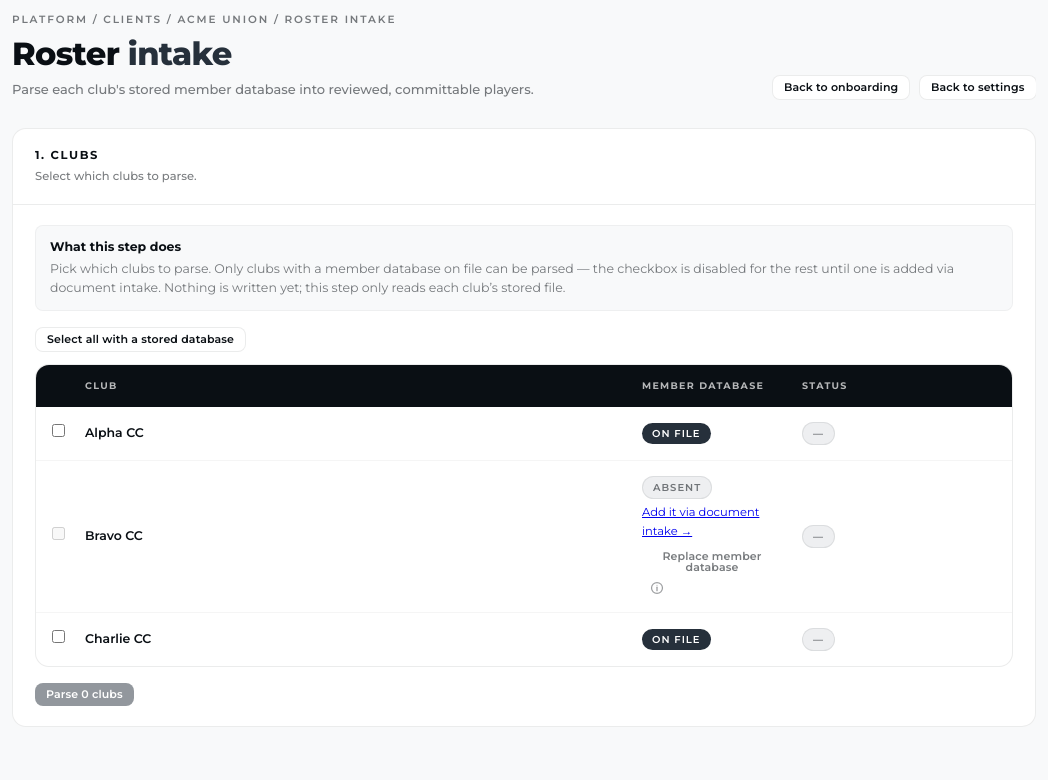
Scenario: RosterIntakeWizard › masks IDs by default with a per-row reveal
Expected: the heading "Roster intake" is shown, [12,34,232,73]
Click the checkbox named "select alpha cc" at (58, 430), box [52,424,65,437]
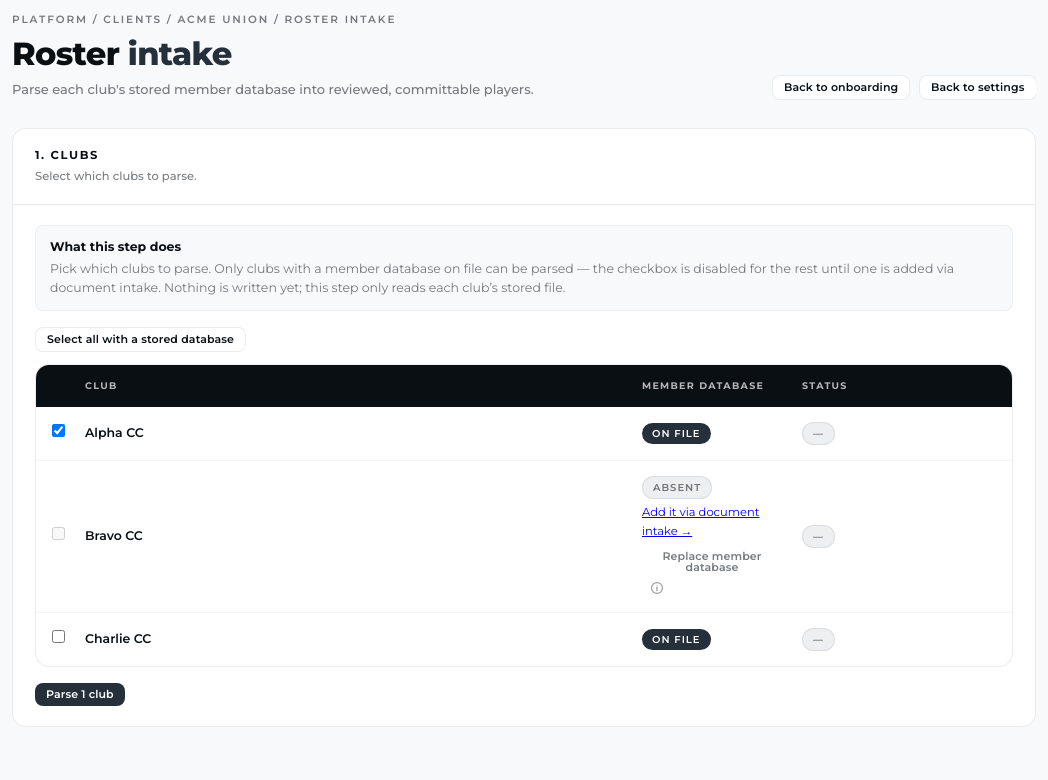
Click the button "Parse 1 club" at (80, 694), box [35,683,125,706]
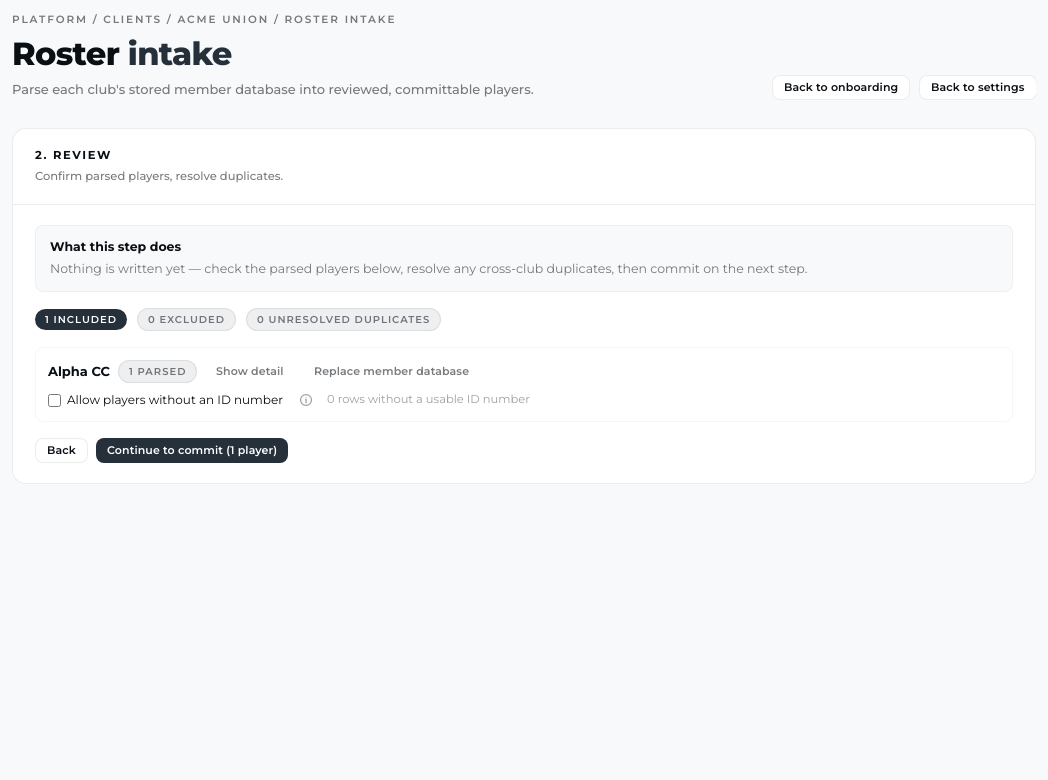
Click the button "Show detail" at (250, 371), box [205,360,295,383]
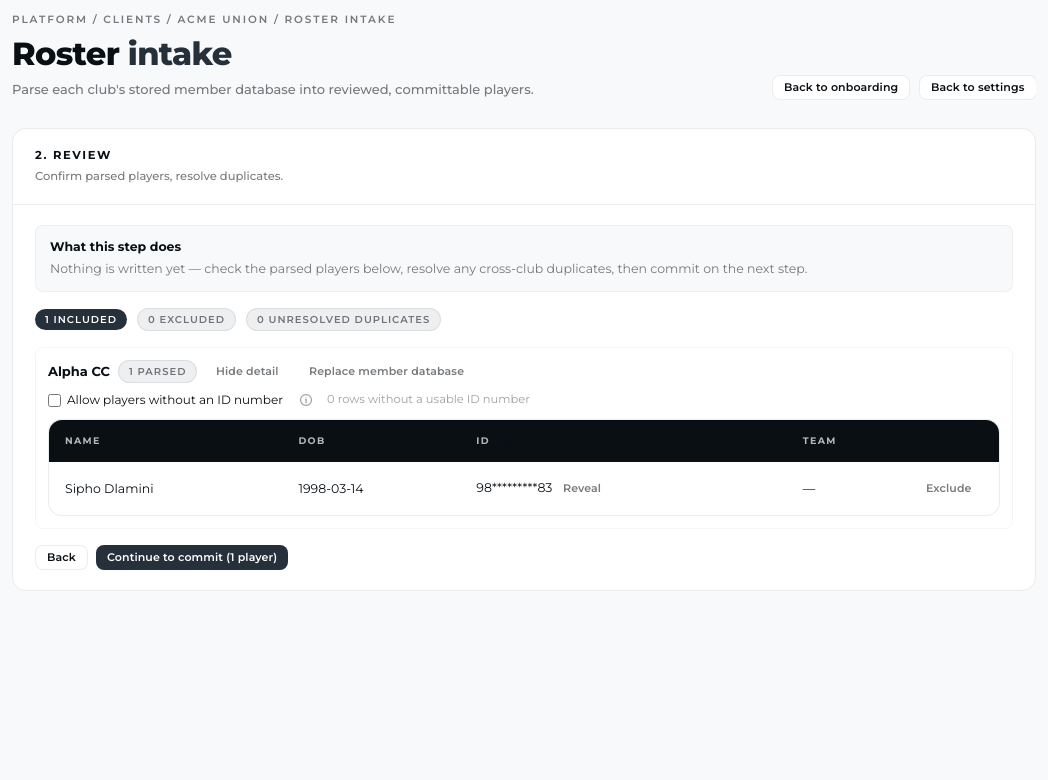
Expected: the text "9803145012083" is not shown
Click the button "Reveal" at (582, 489), box [552,477,613,500]
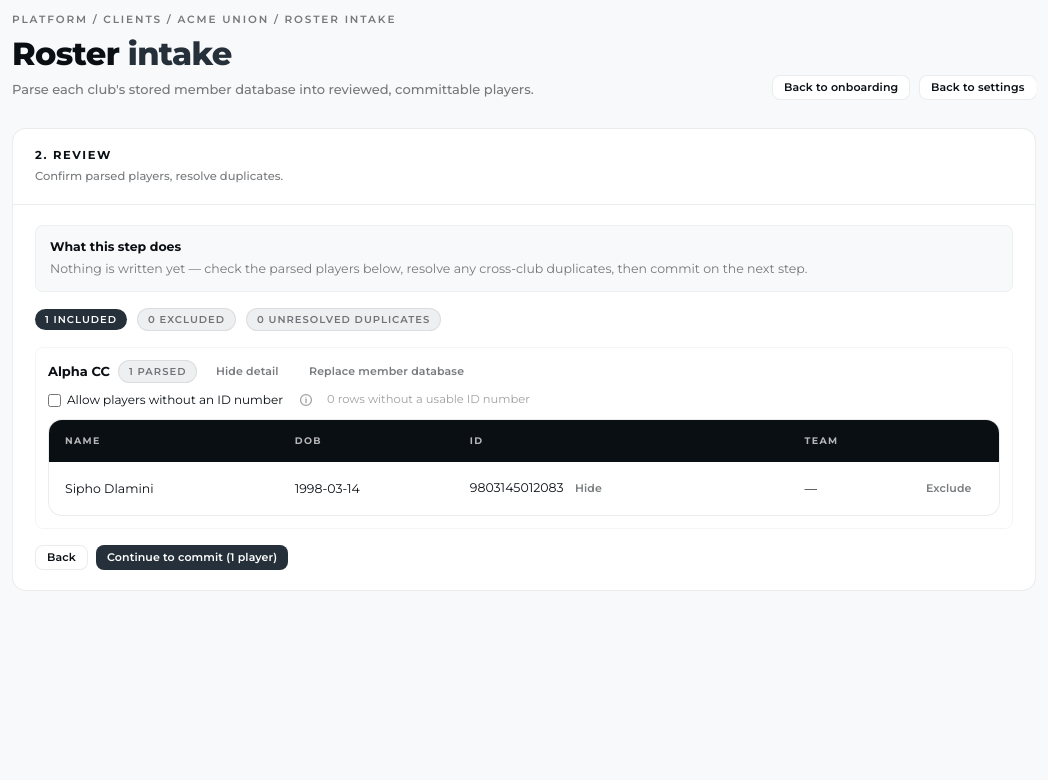
Result: the text "9803145012083" is shown at [470,480,564,495]
